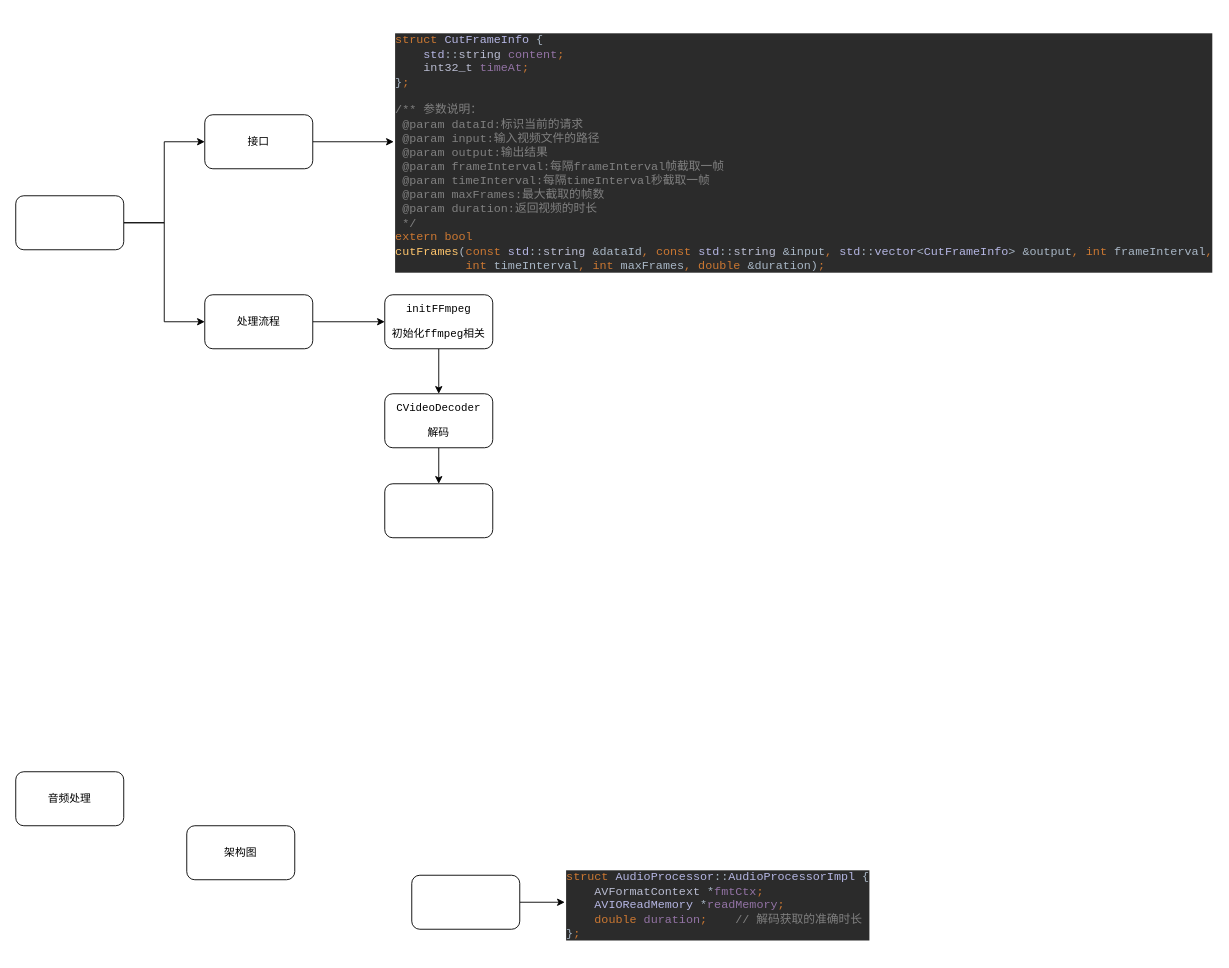
This 1229x968 diagram has some shape labels left out. The shapes that lost their labels are listed below. From the top down, each one's box as (x1, y1, x2, y2) in pixels, then its label:
(15, 195, 124, 250): 视频截图
(384, 483, 493, 538): CImageEncoder 编码
(411, 874, 520, 929): AudioProcessor 功能处理类
